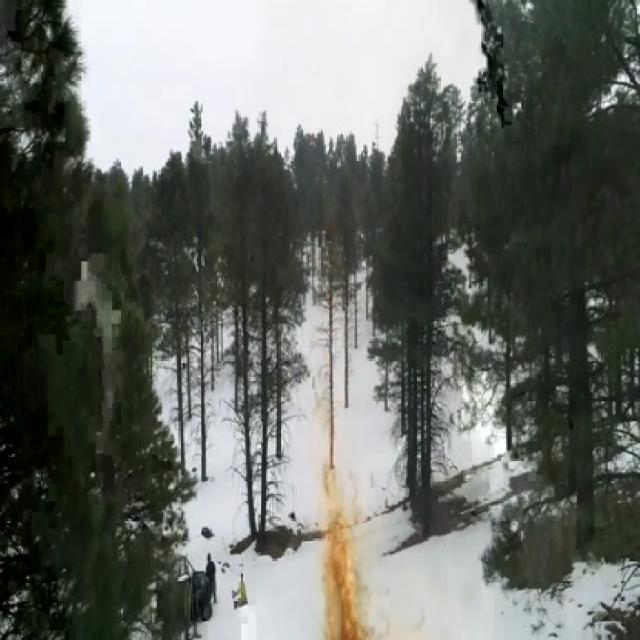Fire: (328, 480, 365, 640)
